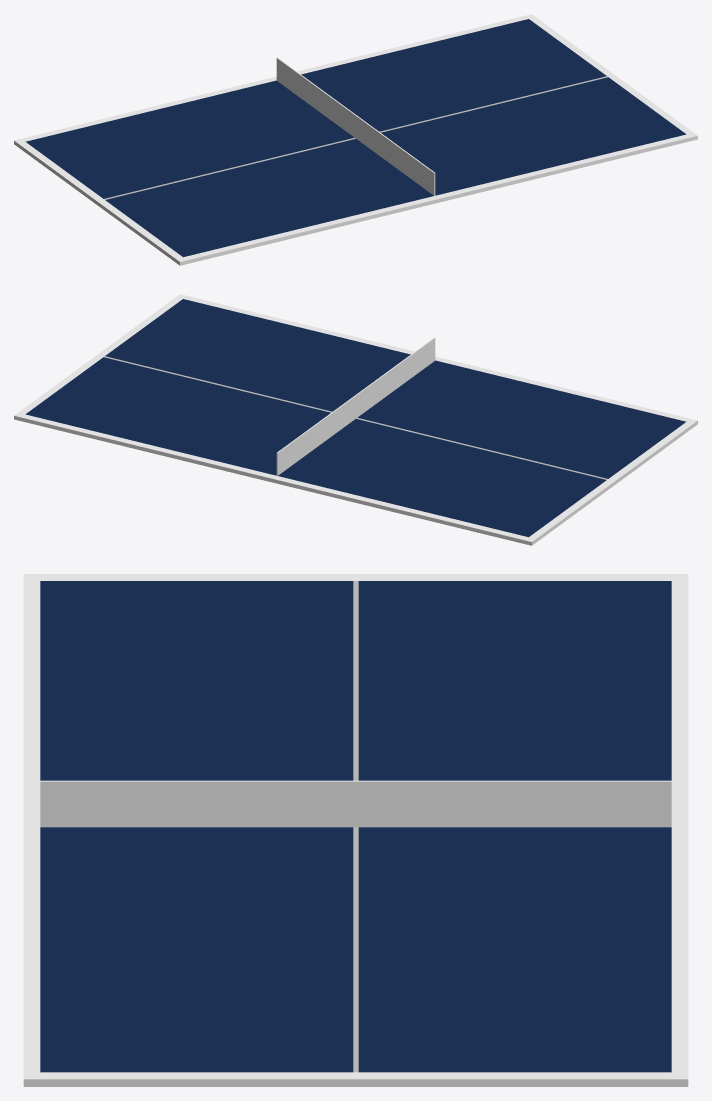
The model's file is pingpong_table.obj.
The picture shows the model from 3 angles, top to bottom: view 1: azimuth 30°, elevation 25°; view 2: azimuth 150°, elevation 25°; view 3: azimuth 270°, elevation 25°; orthographic projection. The views are drawn at different scales.
Visible parts, largest first — view 1: Bluepart, outline, Net, middle_line; view 2: Bluepart, outline, Net, middle_line; view 3: Bluepart, outline, Net, middle_line.
Boxes of the visible parts, x1,y1,x2,y2 form: Bluepart: [25, 19, 686, 257]; outline: [14, 14, 697, 265]; Net: [276, 57, 435, 195]; middle_line: [104, 76, 607, 199]; Bluepart: [25, 299, 686, 537]; outline: [14, 294, 697, 545]; Net: [276, 337, 435, 475]; middle_line: [104, 356, 607, 479]; Bluepart: [40, 581, 671, 1072]; outline: [23, 574, 688, 1086]; Net: [40, 780, 671, 827]; middle_line: [353, 581, 358, 1072].
Size of the model in its own units: 2.74 by 0.1346 by 1.52.
